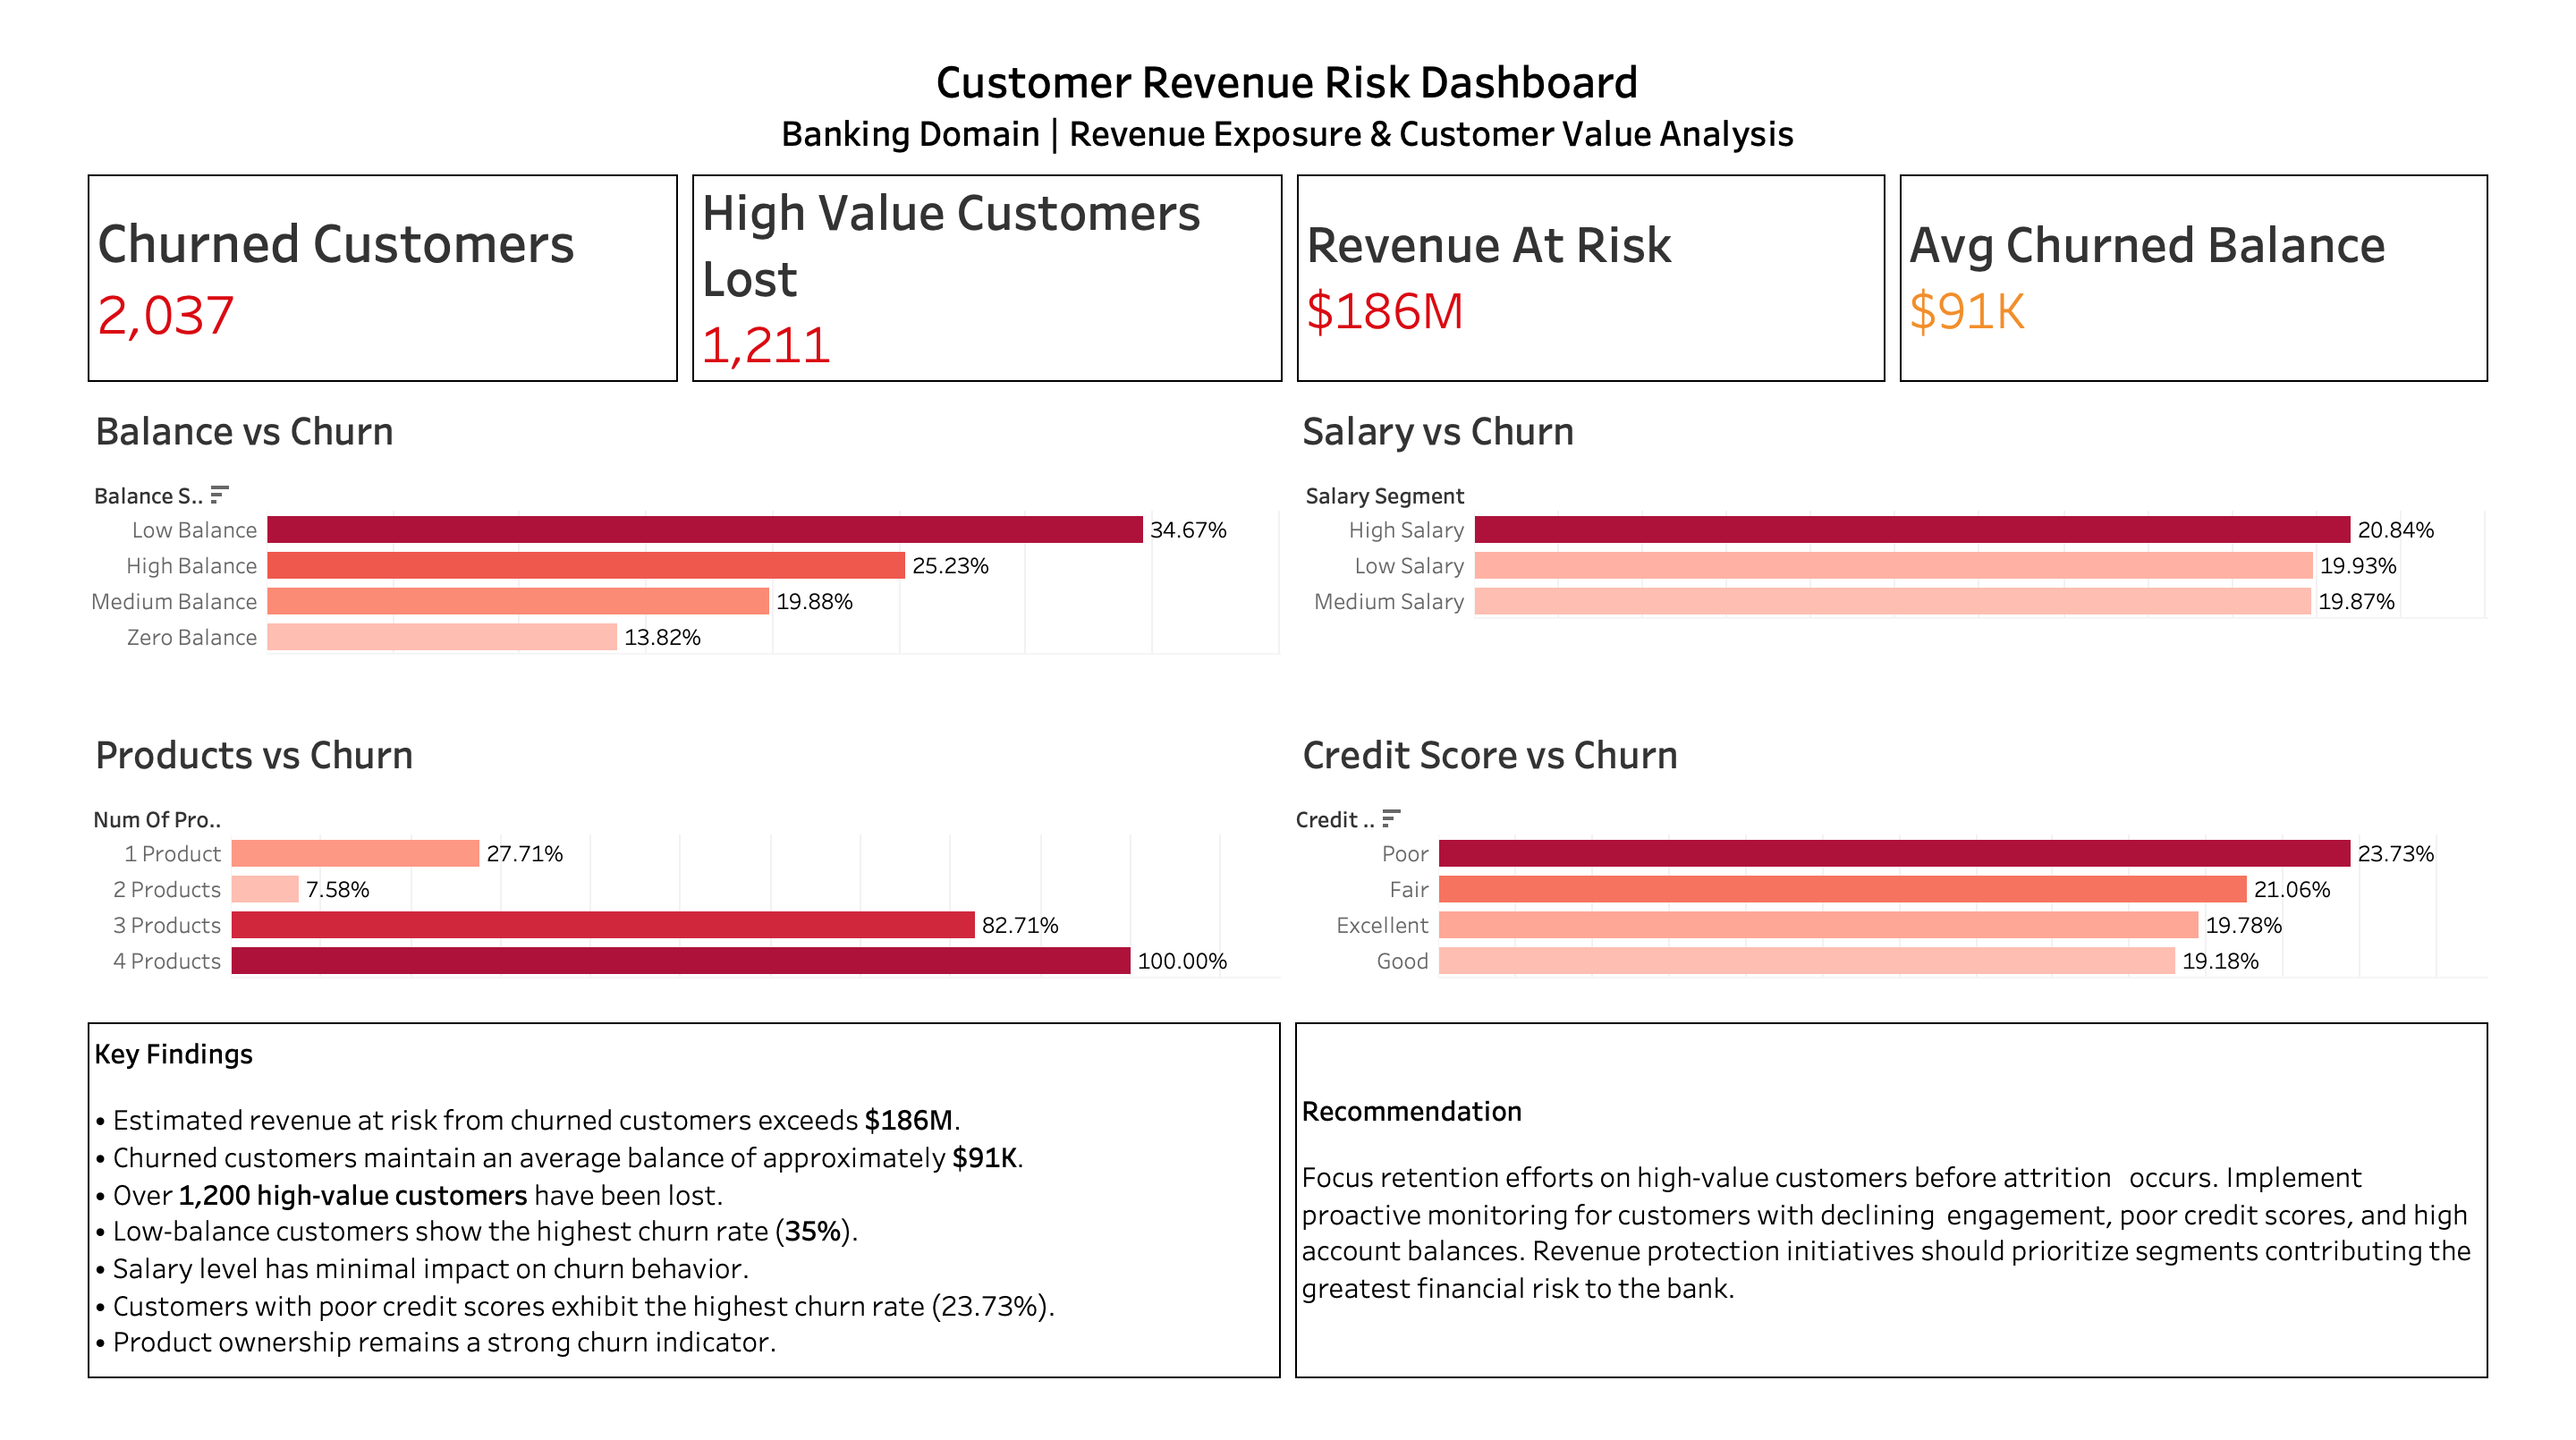

Layout of this report page (visuals, bound fields, positions):
{"tool":"tableau","page":{"name":"Customer Revenue Risk Dashboard","canvas":[1366,768],"ordinal":2},"visuals":[{"type":"text","box":[8,8,1350,71]},{"type":"worksheet","title":"KPI - Churned Customers","mark":"Automatic","box":[8,79,338,124]},{"type":"worksheet","title":"KPI - High Value Customers Lost","mark":"Automatic","box":[346,79,338,124]},{"type":"worksheet","title":"KPI - Revenue At Risk","mark":"Automatic","box":[684,79,337,124]},{"type":"worksheet","title":"KPI -  Avg Balance of Churned Customers","mark":"Automatic","box":[1021,79,337,124]},{"type":"worksheet","title":"Balance vs Churn","mark":"Bar","rows":["Balance Segment"],"cols":["Calculation_3465121976774665"],"box":[8,203,675,181]},{"type":"worksheet","title":"Salary vs Churn","mark":"Automatic","rows":["Calculation_3465121980997642"],"cols":["Calculation_3465121976774665"],"box":[683,203,675,181]},{"type":"worksheet","title":"Product vs Churn","mark":"Bar","rows":["NumOfProducts"],"cols":["Calculation_3465121976774665"],"box":[8,384,675,169]},{"type":"worksheet","title":"Credit Score vs Churn","mark":"Automatic","rows":["Calculation_3465121982115851"],"cols":["Calculation_3465121976774665"],"box":[683,384,675,169]},{"type":"text","box":[8,553,675,207]},{"type":"text","box":[683,553,675,207]}]}

Visuals, with their boxes in screenshot pixels (x1, y1, x2, y2), scaled from the page's 1366x768 canvas onto the 2576x1440 screenshot:
text: BBox(15, 15, 2561, 148)
"KPI - Churned Customers" worksheet: BBox(15, 148, 652, 381)
"KPI - High Value Customers Lost" worksheet: BBox(652, 148, 1290, 381)
"KPI - Revenue At Risk" worksheet: BBox(1290, 148, 1926, 381)
"KPI -  Avg Balance of Churned Customers" worksheet: BBox(1926, 148, 2561, 381)
"Balance vs Churn" worksheet (Bar marks): BBox(15, 381, 1288, 720)
"Salary vs Churn" worksheet: BBox(1288, 381, 2561, 720)
"Product vs Churn" worksheet (Bar marks): BBox(15, 720, 1288, 1037)
"Credit Score vs Churn" worksheet: BBox(1288, 720, 2561, 1037)
text: BBox(15, 1037, 1288, 1425)
text: BBox(1288, 1037, 2561, 1425)
